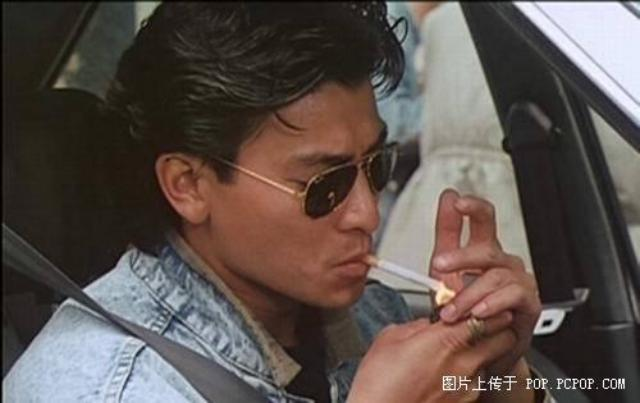Smoking: (360, 254, 448, 296)
